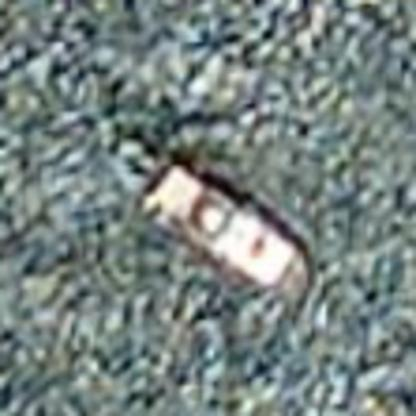ship: (128, 155, 316, 306)
